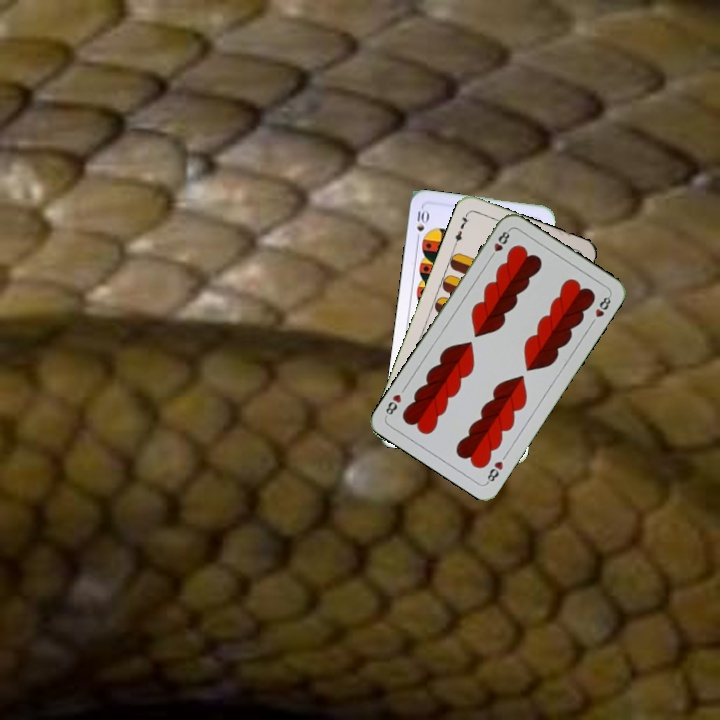E7: (450, 209, 471, 248)
H8: (485, 226, 512, 262), (483, 457, 506, 486)
S10: (413, 204, 431, 245)
